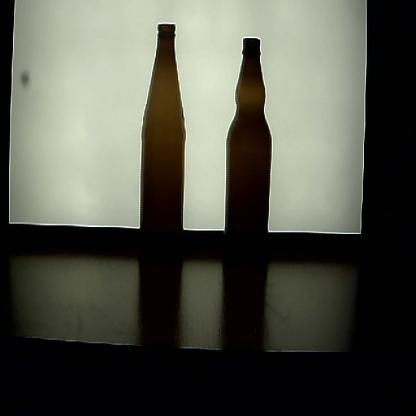Can: (140, 23, 186, 287), (226, 37, 272, 283)
